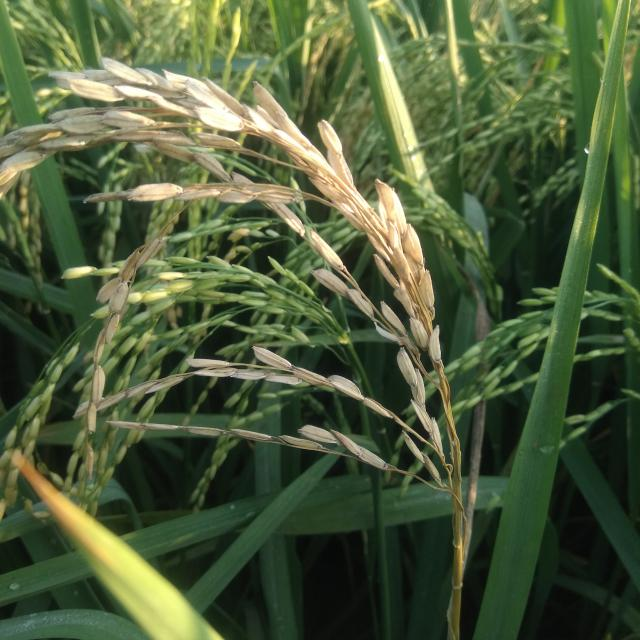Brown spot: (5, 444, 130, 578)
